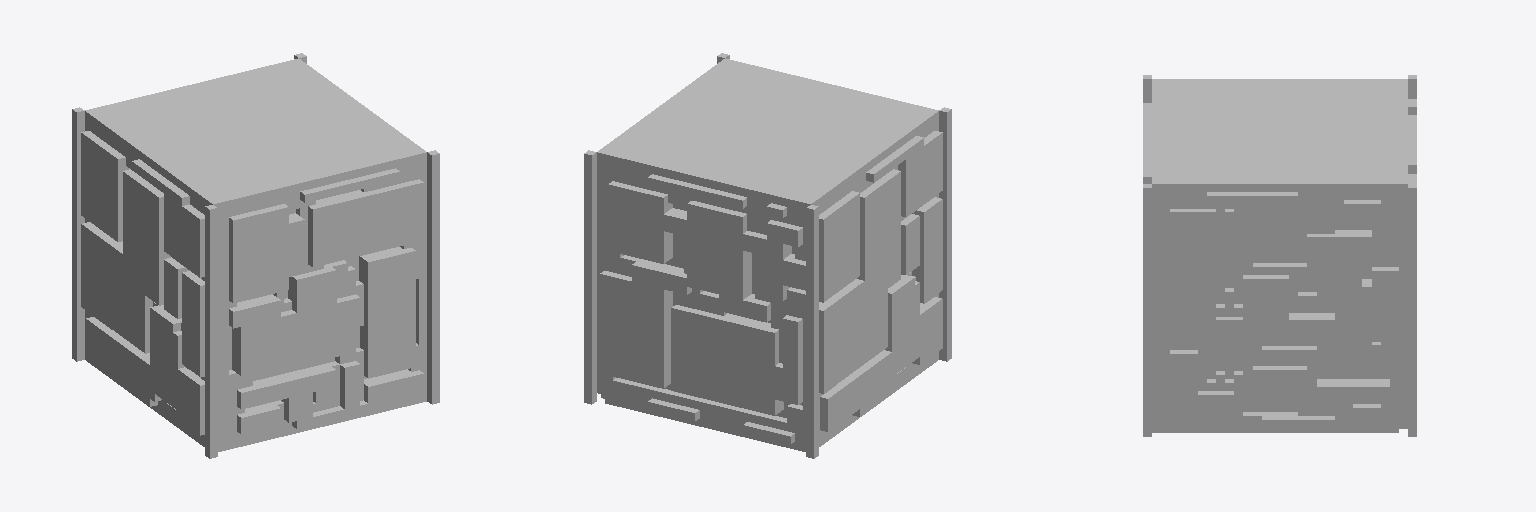
The model's file is GoldOre.obj.
3 views of the same model, side by side, from view 1: azimuth 30°, elevation 25°; view 2: azimuth 150°, elevation 25°; view 3: azimuth 270°, elevation 25° (orthographic).
Visible parts, largest first — view 1: GoldBloc; view 2: GoldBloc; view 3: GoldBloc.
Part boxes in pixels (left/top/right/bottom): GoldBloc: left=72, top=53, right=439, bottom=458; GoldBloc: left=584, top=53, right=951, bottom=458; GoldBloc: left=1143, top=75, right=1416, bottom=436.
Bounding box in the file's own units: 29 × 30 × 30.